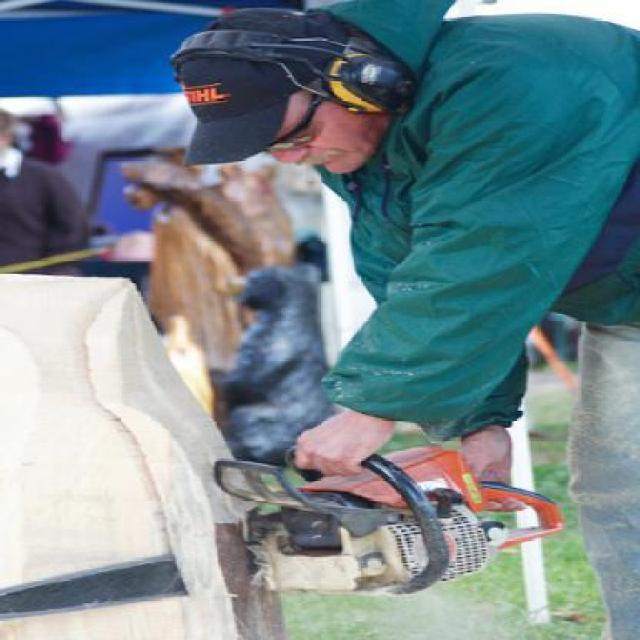Chainsaw: (209, 438, 560, 598)
